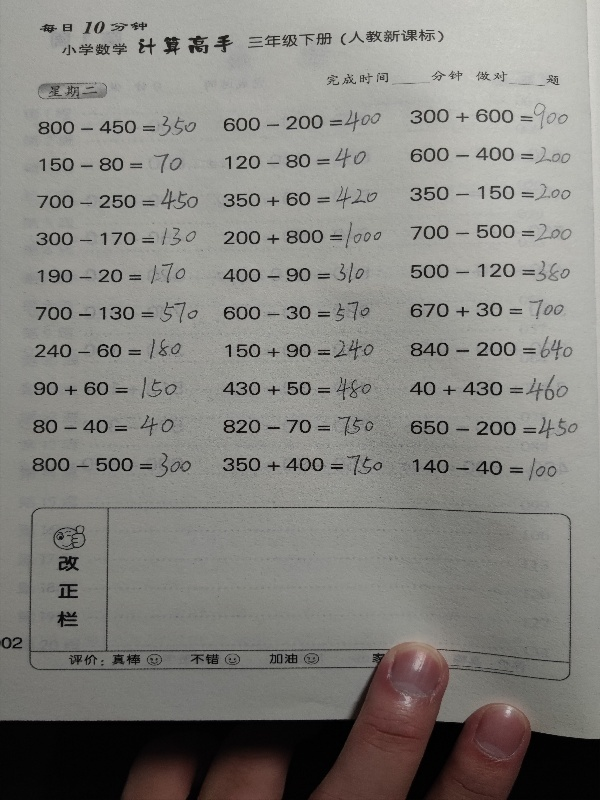equation: (407, 371, 572, 405), (29, 449, 195, 482), (221, 219, 386, 252), (406, 255, 578, 284), (407, 414, 582, 442), (220, 373, 376, 404), (29, 409, 185, 440), (221, 182, 382, 212), (35, 112, 200, 141), (33, 299, 202, 327), (32, 185, 201, 213), (220, 451, 386, 479), (408, 100, 574, 128), (408, 454, 560, 484), (407, 336, 575, 363), (222, 335, 378, 364), (407, 296, 567, 324), (406, 178, 578, 204), (35, 261, 189, 290), (36, 148, 195, 176), (220, 109, 384, 136), (34, 224, 201, 250), (30, 374, 181, 402), (220, 259, 369, 287), (219, 300, 373, 327), (406, 143, 579, 167), (31, 337, 184, 364), (220, 412, 377, 438), (220, 145, 369, 172), (406, 220, 578, 243)
